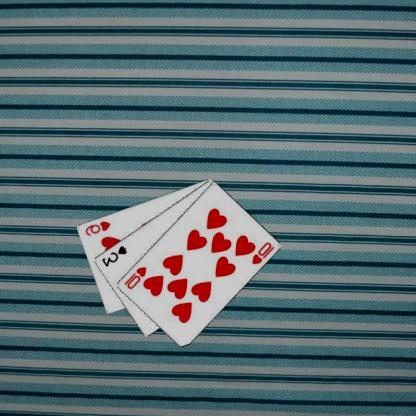10H: (123, 264, 149, 291), (251, 239, 277, 265)
3S: (100, 243, 130, 268)
6H: (84, 218, 113, 237)
